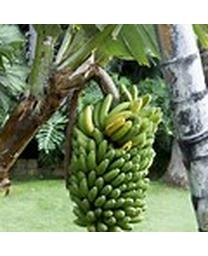banana: (64, 71, 161, 231)
